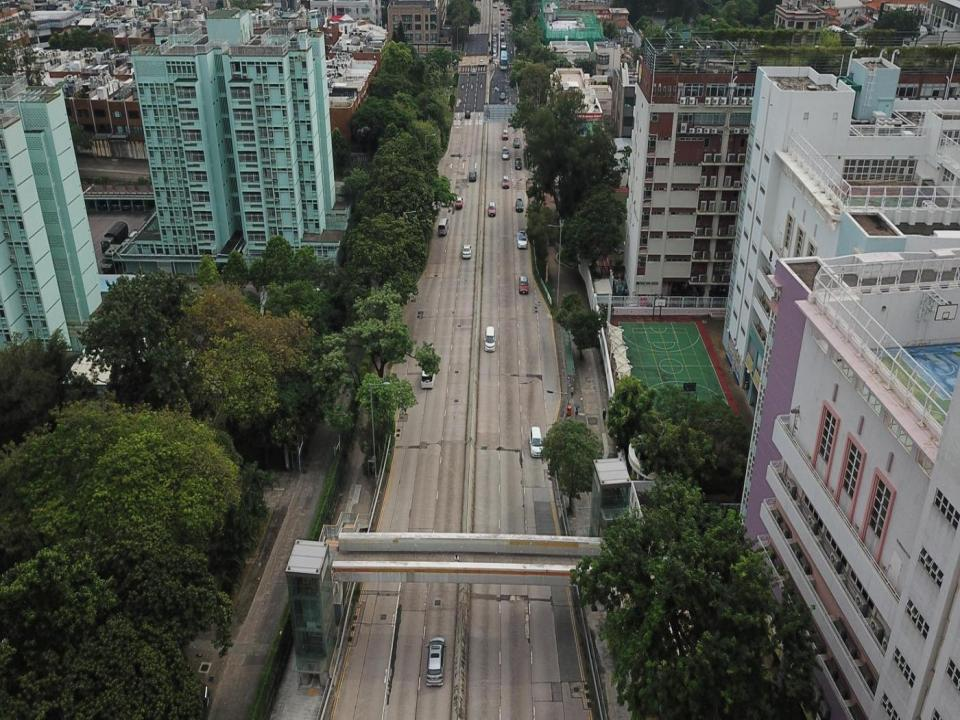car: (517, 230, 528, 249), (519, 276, 529, 294), (515, 196, 523, 212), (501, 146, 509, 160), (467, 172, 477, 183), (488, 203, 496, 216), (454, 197, 462, 210), (502, 175, 510, 188), (513, 138, 522, 148), (514, 158, 522, 169), (502, 130, 509, 140)
truck: (99, 221, 129, 253)
van: (426, 637, 446, 687), (530, 426, 546, 458), (420, 359, 436, 387), (484, 324, 496, 354), (438, 217, 449, 234), (462, 246, 472, 259)
